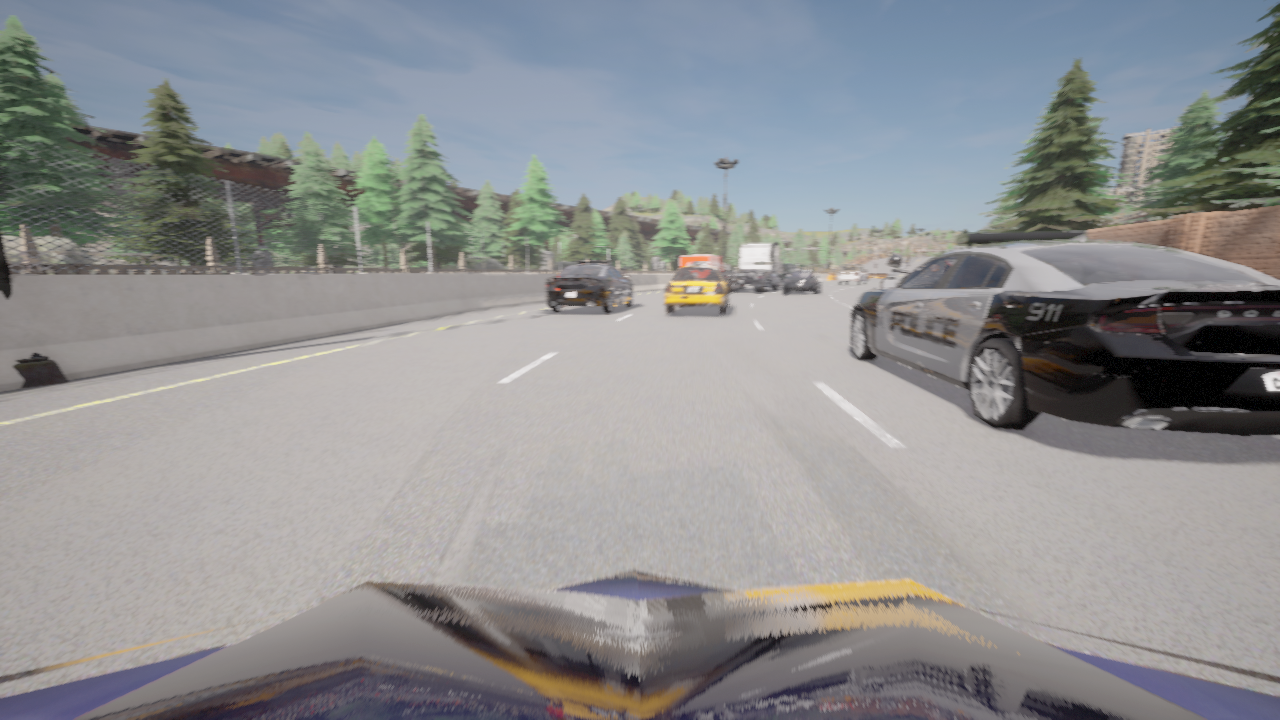cyclist: (0, 569, 1279, 719), (851, 230, 1279, 436), (546, 260, 633, 312), (664, 261, 731, 314), (722, 241, 784, 292), (679, 255, 729, 273), (783, 271, 820, 294), (838, 265, 867, 284), (780, 263, 800, 282)
